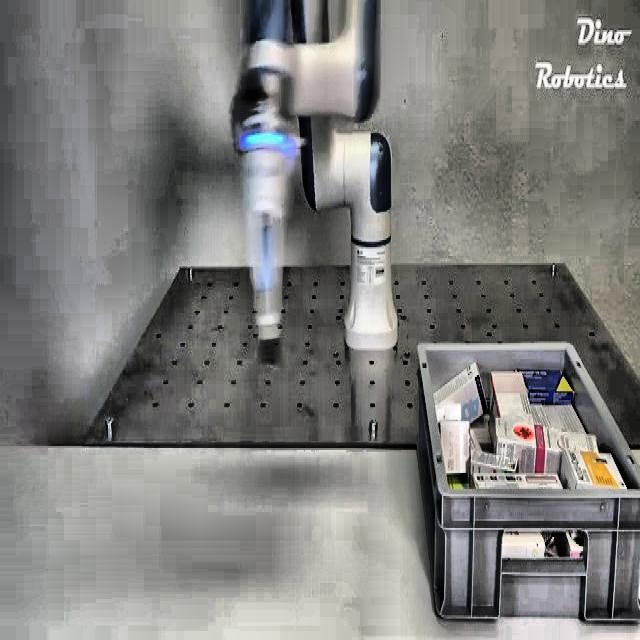robot: (229, 0, 398, 363)
